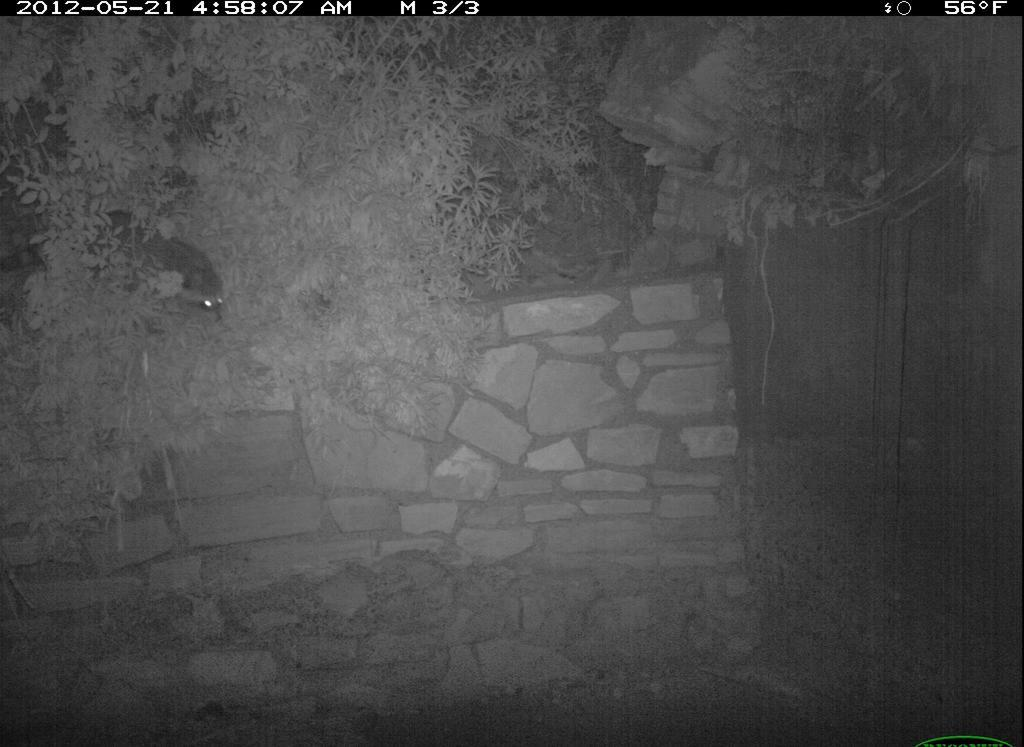raccoon: (111, 221, 232, 340)
